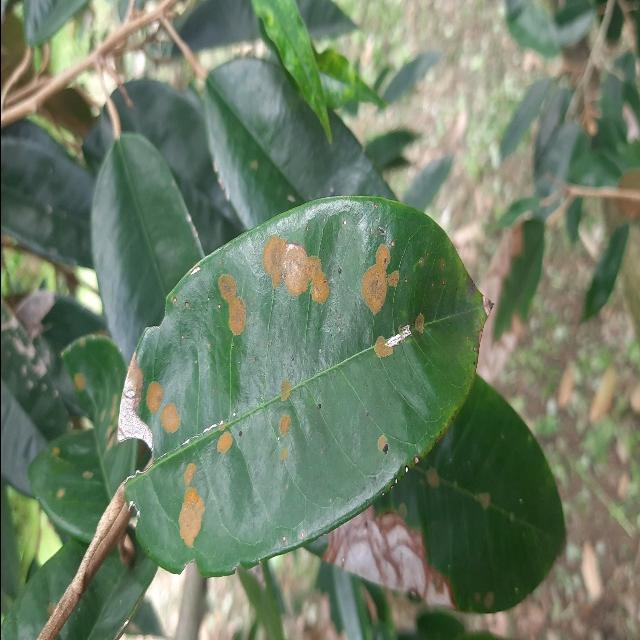Algal Leaf Spot: (113, 191, 493, 581)
